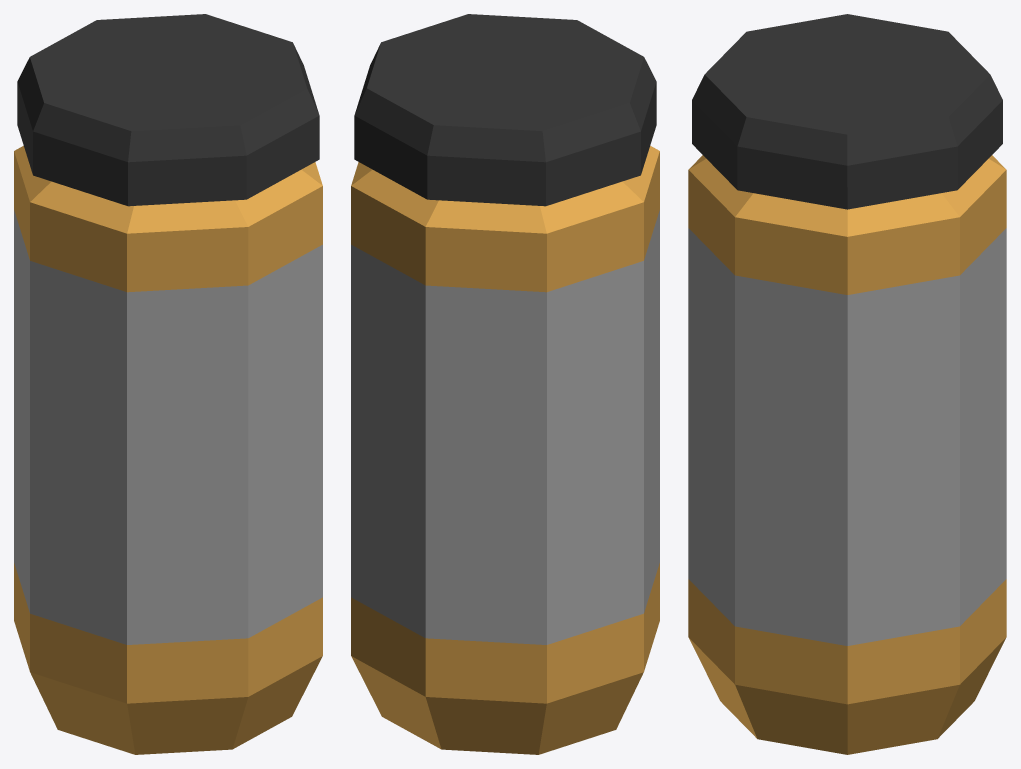
Rendered from SpiceJar2.fbx.
3 views of the same model, side by side, from view 1: azimuth 30°, elevation 25°; view 2: azimuth 150°, elevation 25°; view 3: azimuth 270°, elevation 25° (orthographic).
Visible parts, largest first — view 1: SpiceJar2; view 2: SpiceJar2; view 3: SpiceJar2.
Boxes of the visible parts, <box> form: SpiceJar2: <box>14,14,322,754</box>; SpiceJar2: <box>351,14,659,754</box>; SpiceJar2: <box>688,14,1006,754</box>.
Size of the model in its own units: 12.61 by 27.43 by 12.61.
